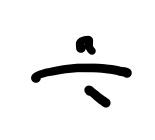div: (28, 34, 131, 108)
